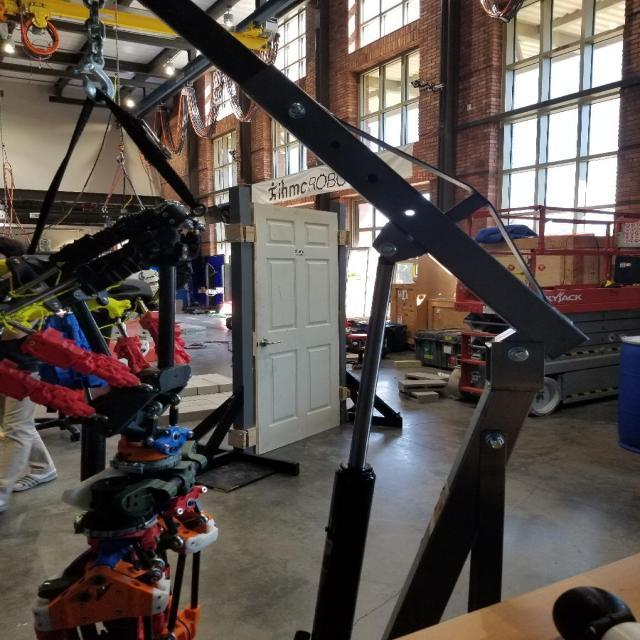door: (250, 201, 342, 456), (258, 337, 286, 352)
